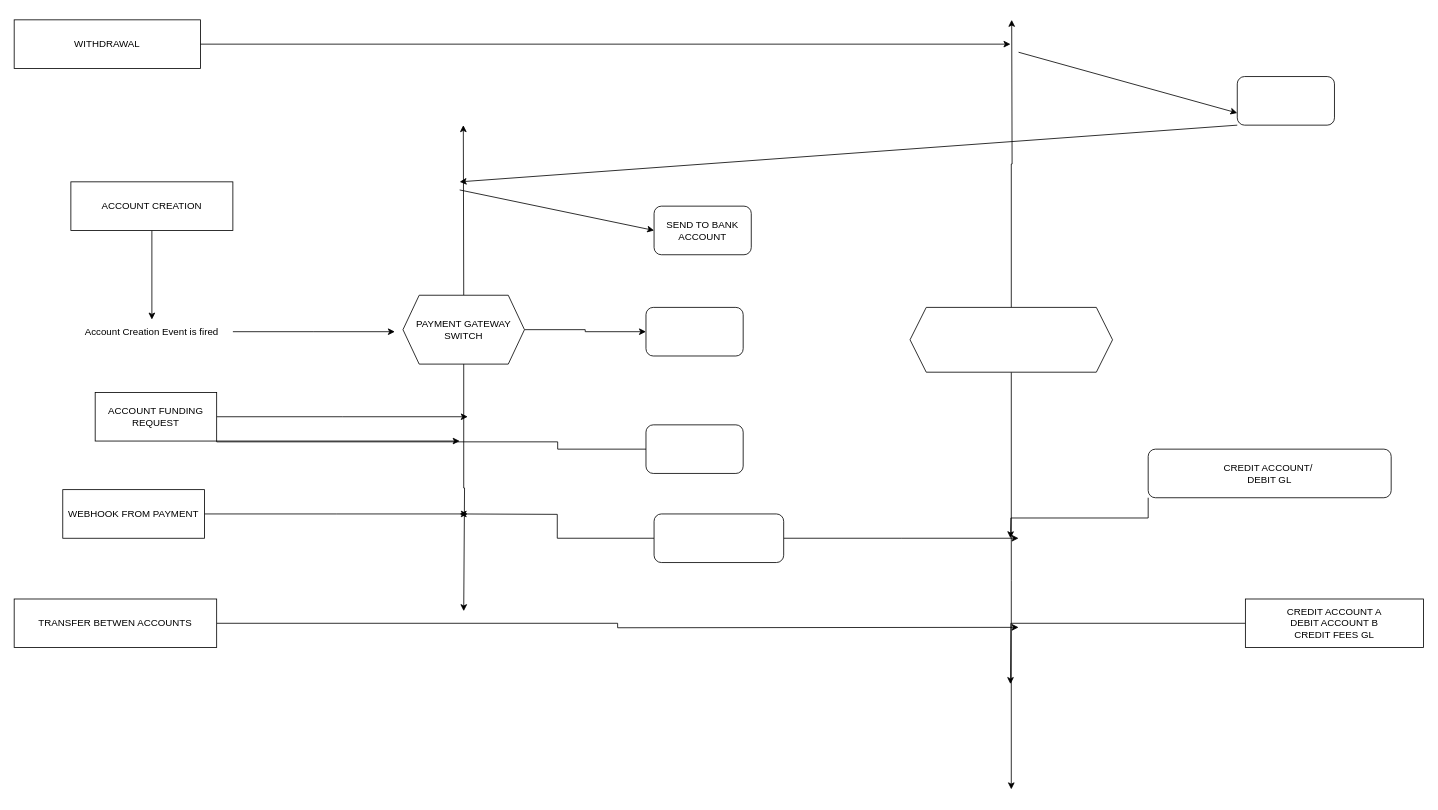
This 1438x810 diagram has some shape labels left out. The shapes that lost their labels are listed below. From the top down, each one's box as (x1, y1, x2, y2) in pixels, then its label:
(1236, 76, 1334, 125): DEBIT ACCOUNT CREDIT GL
(645, 307, 743, 356): CREATE VIRTUAL ACCOUNT
(909, 307, 1113, 372): WALLET SERVICE
(645, 424, 743, 473): GET CARD PAYMENT LINK
(653, 513, 784, 563): PROCESS/ VERIFY WEBHOOK
